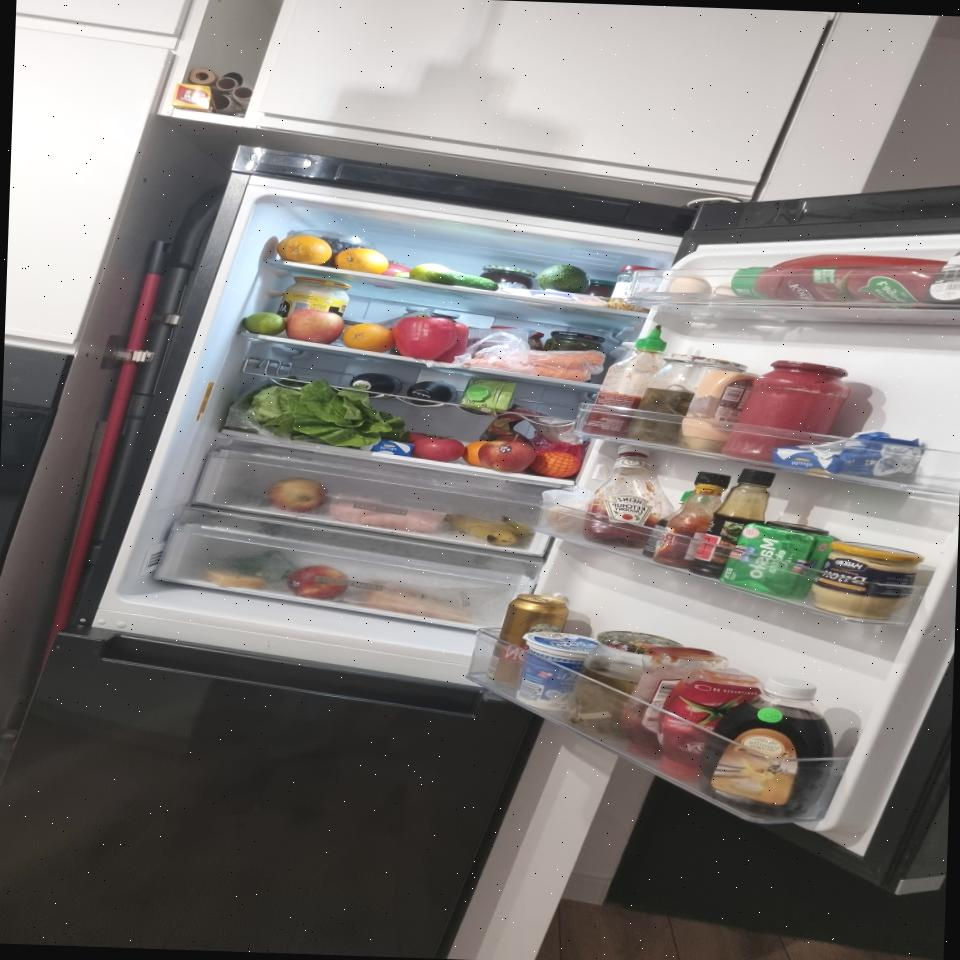Aguacate: (539, 264, 590, 294)
Carne pollo: (326, 489, 449, 533)
Huevos: (670, 276, 713, 302)
Lechuga/Endivia: (250, 384, 406, 449)
Mantequilla: (720, 520, 836, 598), (774, 430, 921, 478), (356, 437, 412, 456)
Manzana: (288, 564, 349, 601), (268, 476, 327, 514), (286, 308, 344, 344), (478, 441, 535, 474)
Pepino: (425, 268, 500, 292)
Plátano: (444, 512, 533, 546)
Queso: (365, 584, 470, 623), (202, 570, 266, 589)
Tomate: (412, 436, 467, 463)
Yogur: (513, 630, 598, 712)
Zanahoria: (461, 344, 608, 382)
bell pepper: (394, 315, 471, 364)
blueberries: (318, 235, 371, 268)
ketchup: (615, 645, 726, 761), (731, 249, 950, 306), (654, 669, 762, 783), (584, 443, 672, 547)
lime: (244, 312, 285, 336), (409, 264, 447, 282)
mayonnaise: (275, 275, 352, 328)
mustard: (810, 540, 926, 622)
orange: (276, 234, 331, 265), (344, 322, 392, 352), (335, 248, 388, 274), (534, 450, 580, 478), (462, 440, 487, 466)
